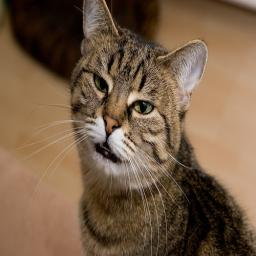catnose: (104, 112, 120, 136)
